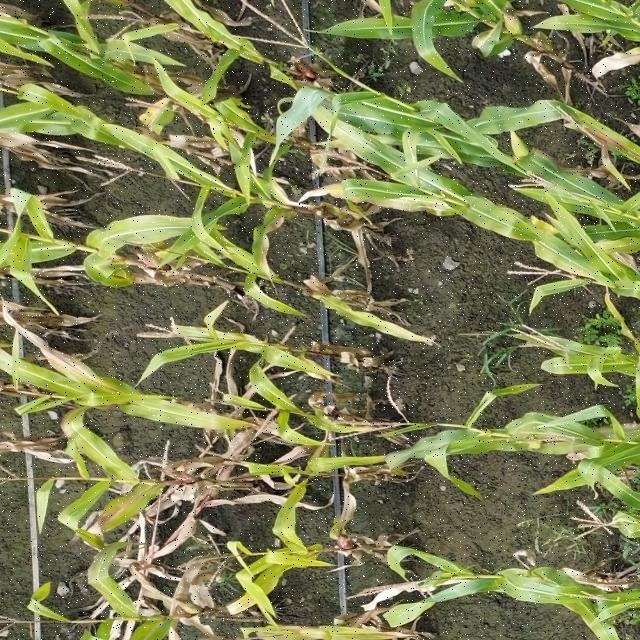northern-leaf-blight: (526, 220, 613, 286)
